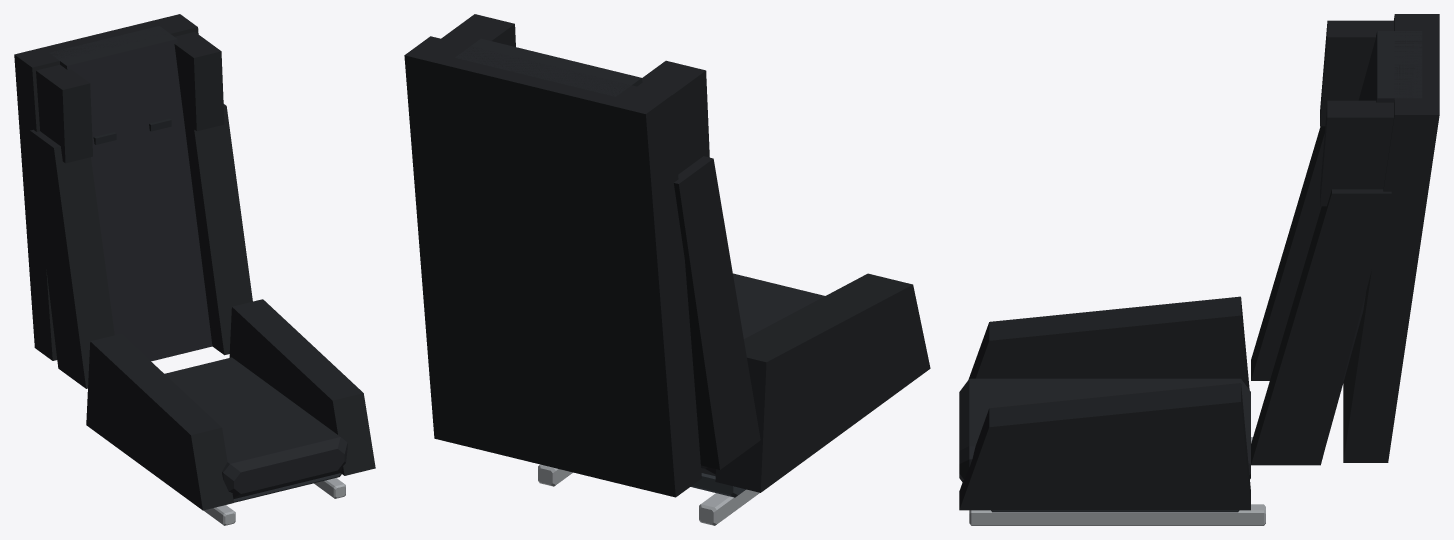
The model's file is vortex_r.glb.
3 renders of one model, left to right at view 1: azimuth 30°, elevation 25°; view 2: azimuth 150°, elevation 25°; view 3: azimuth 270°, elevation 25°, orthographic. The views are drawn at different scales.
Visible parts, largest first — view 1: model; view 2: model; view 3: model.
Boxes of the visible parts, box(x1,y1,x2,y2) form: model: box(14, 14, 375, 525); model: box(404, 14, 930, 525); model: box(959, 14, 1439, 525).
Size of the model in its own units: 0.5 by 0.94 by 0.9632.
4 materials, 1 textured.
